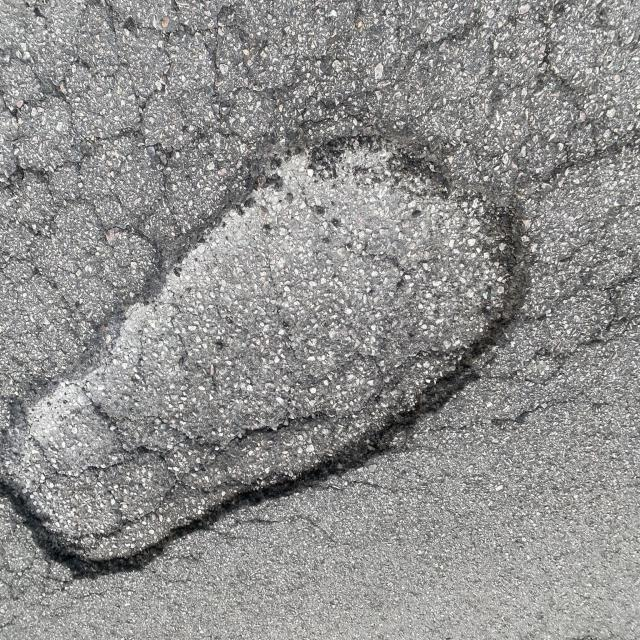Pothole: (5, 85, 581, 592)
